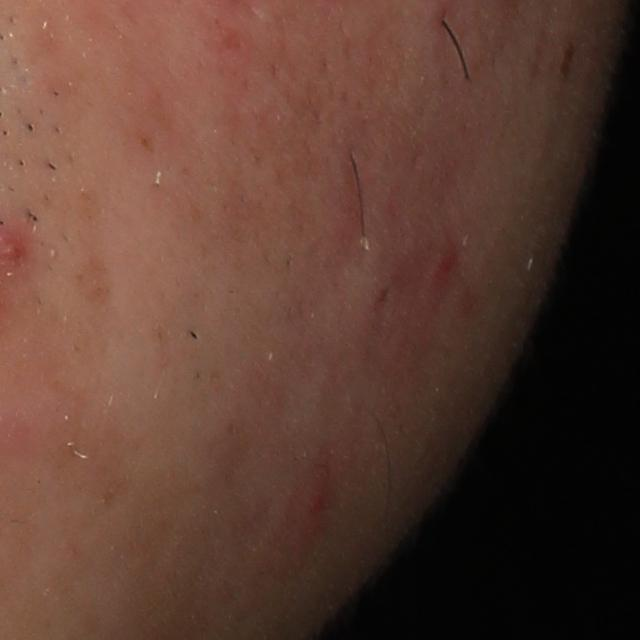nevus: (560, 39, 578, 80)
papule: (300, 469, 332, 530), (431, 246, 463, 290)
